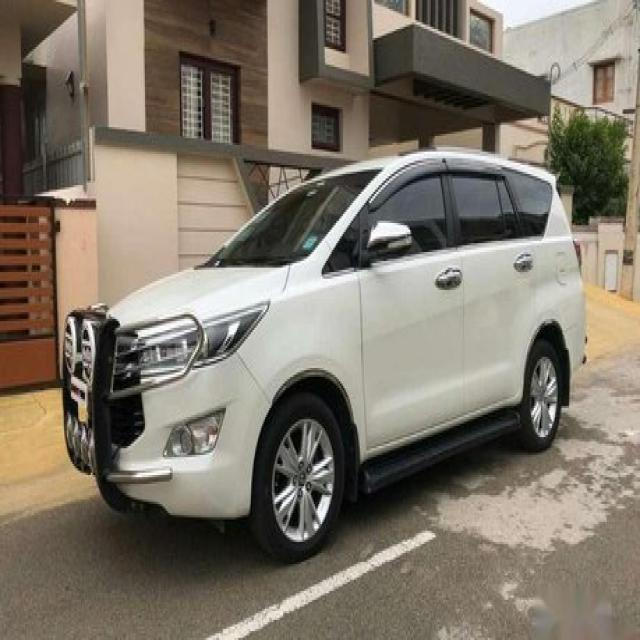light_vehicle: (61, 146, 589, 563)
